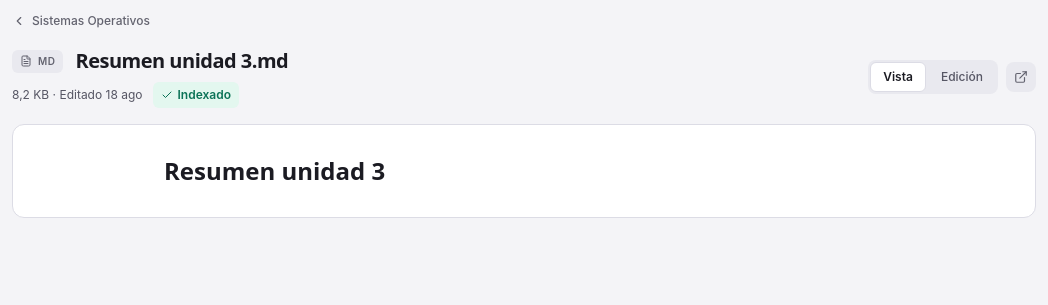
it: AttachmentViewerContainer — edición › marks the draft dirty once edited — the "Sin guardar" badge appears
This screenshot has width=1048, height=305.
Check: the heading "Resumen unidad 3" is shown, box [164, 154, 385, 187]
Click the button "Edición" at (962, 77), box [928, 62, 996, 92]
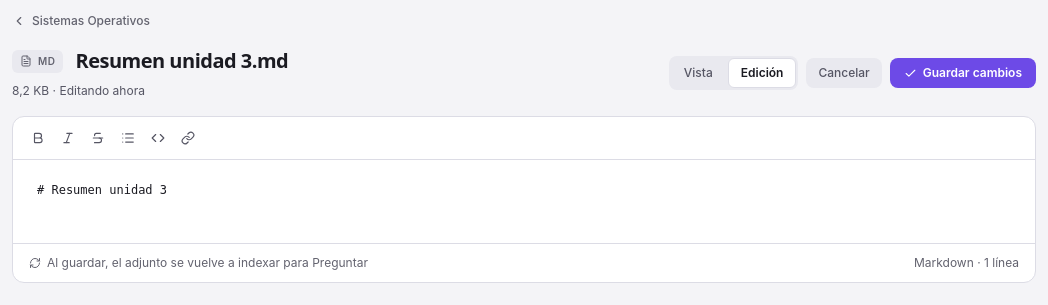
Check: the text "Sin guardar" is not shown
Replace the text in the text box named "Editor de markdown" with "# Editado" at (524, 202), box [37, 180, 1011, 223]
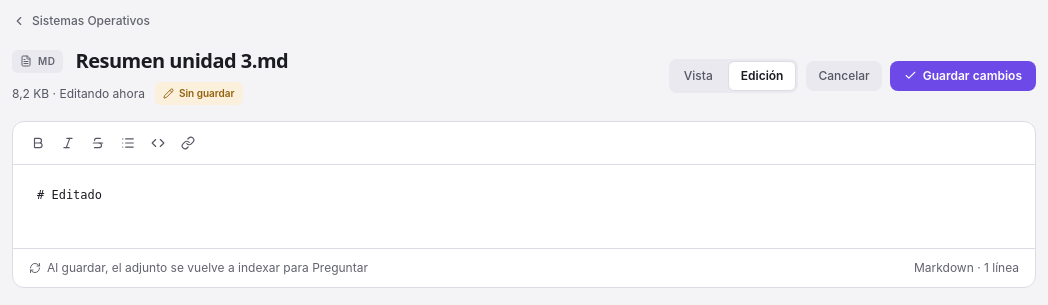
Check: the text "Sin guardar" is shown, box [155, 82, 242, 105]
